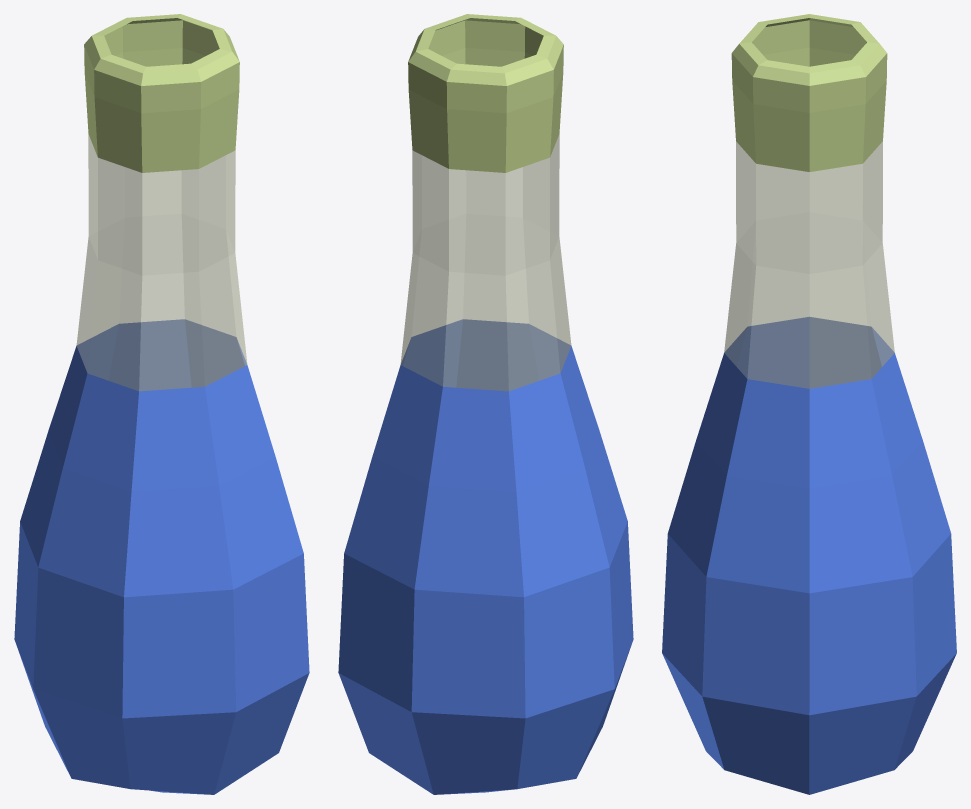
File: shield-potion-2-named-nodes.glb
3 views of the same model, side by side, from view 1: azimuth 30°, elevation 25°; view 2: azimuth 150°, elevation 25°; view 3: azimuth 270°, elevation 25° (orthographic).
Parts seen in each view (by area): view 1: Cube.002_Material.005_0, Cube.002_Material.001_0, Cube.002_Material.004_0; view 2: Cube.002_Material.005_0, Cube.002_Material.001_0, Cube.002_Material.004_0; view 3: Cube.002_Material.005_0, Cube.002_Material.001_0, Cube.002_Material.004_0.
Boxes of the visible parts, x1,y1,x2,y2 form: Cube.002_Material.005_0: (14, 319, 309, 794); Cube.002_Material.001_0: (76, 134, 247, 391); Cube.002_Material.004_0: (84, 14, 239, 172); Cube.002_Material.005_0: (338, 319, 633, 794); Cube.002_Material.001_0: (400, 134, 571, 391); Cube.002_Material.004_0: (408, 14, 563, 172); Cube.002_Material.005_0: (662, 316, 956, 794); Cube.002_Material.001_0: (724, 141, 894, 388); Cube.002_Material.004_0: (731, 14, 887, 171).
Size of the model in its own units: 1.74 by 4.83 by 1.74.
